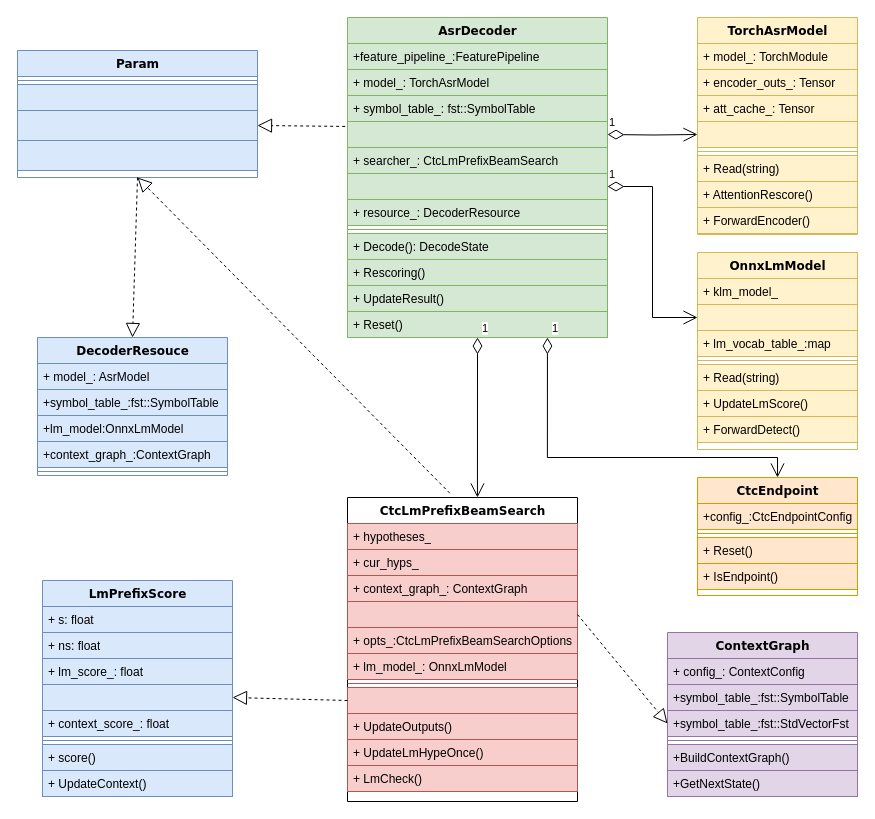
The diagram is 875 pixels wide and 819 high, and some of its shapes have lost their labels. Here are the shapes that lost their labels. From the top down, the centre of each, then its label:
(x=137, y=97): +InitFeaturePipelineConfigFromFlags()
(x=137, y=125): +InitDecodeOptionsFromFlags()
(x=477, y=134): + opts_: DecoderOptions
(x=777, y=134): + cnn_cache_: Tensor
(x=137, y=155): +InitDecodeResourceFromFlags()
(x=477, y=186): + ctc_endpointer_: CtcEndpointer
(x=777, y=317): + lm_session_:Ort::Session
(x=462, y=614): + outputs_
(x=137, y=697): + prefix_text_: string
(x=462, y=700): + Search()
